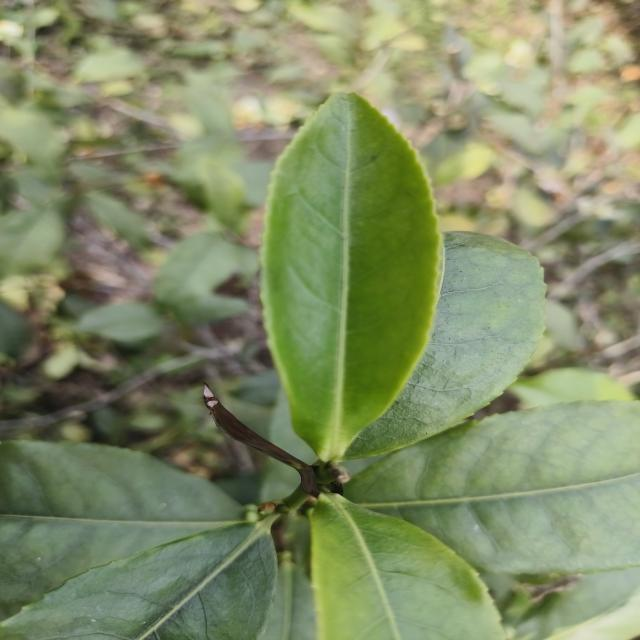Leaf: (260, 93, 441, 461), (345, 402, 640, 575), (346, 232, 545, 459), (0, 440, 244, 620), (0, 523, 276, 640), (310, 493, 504, 640), (154, 232, 239, 304), (509, 368, 635, 408), (0, 204, 65, 275), (195, 156, 244, 231), (79, 302, 163, 342)
